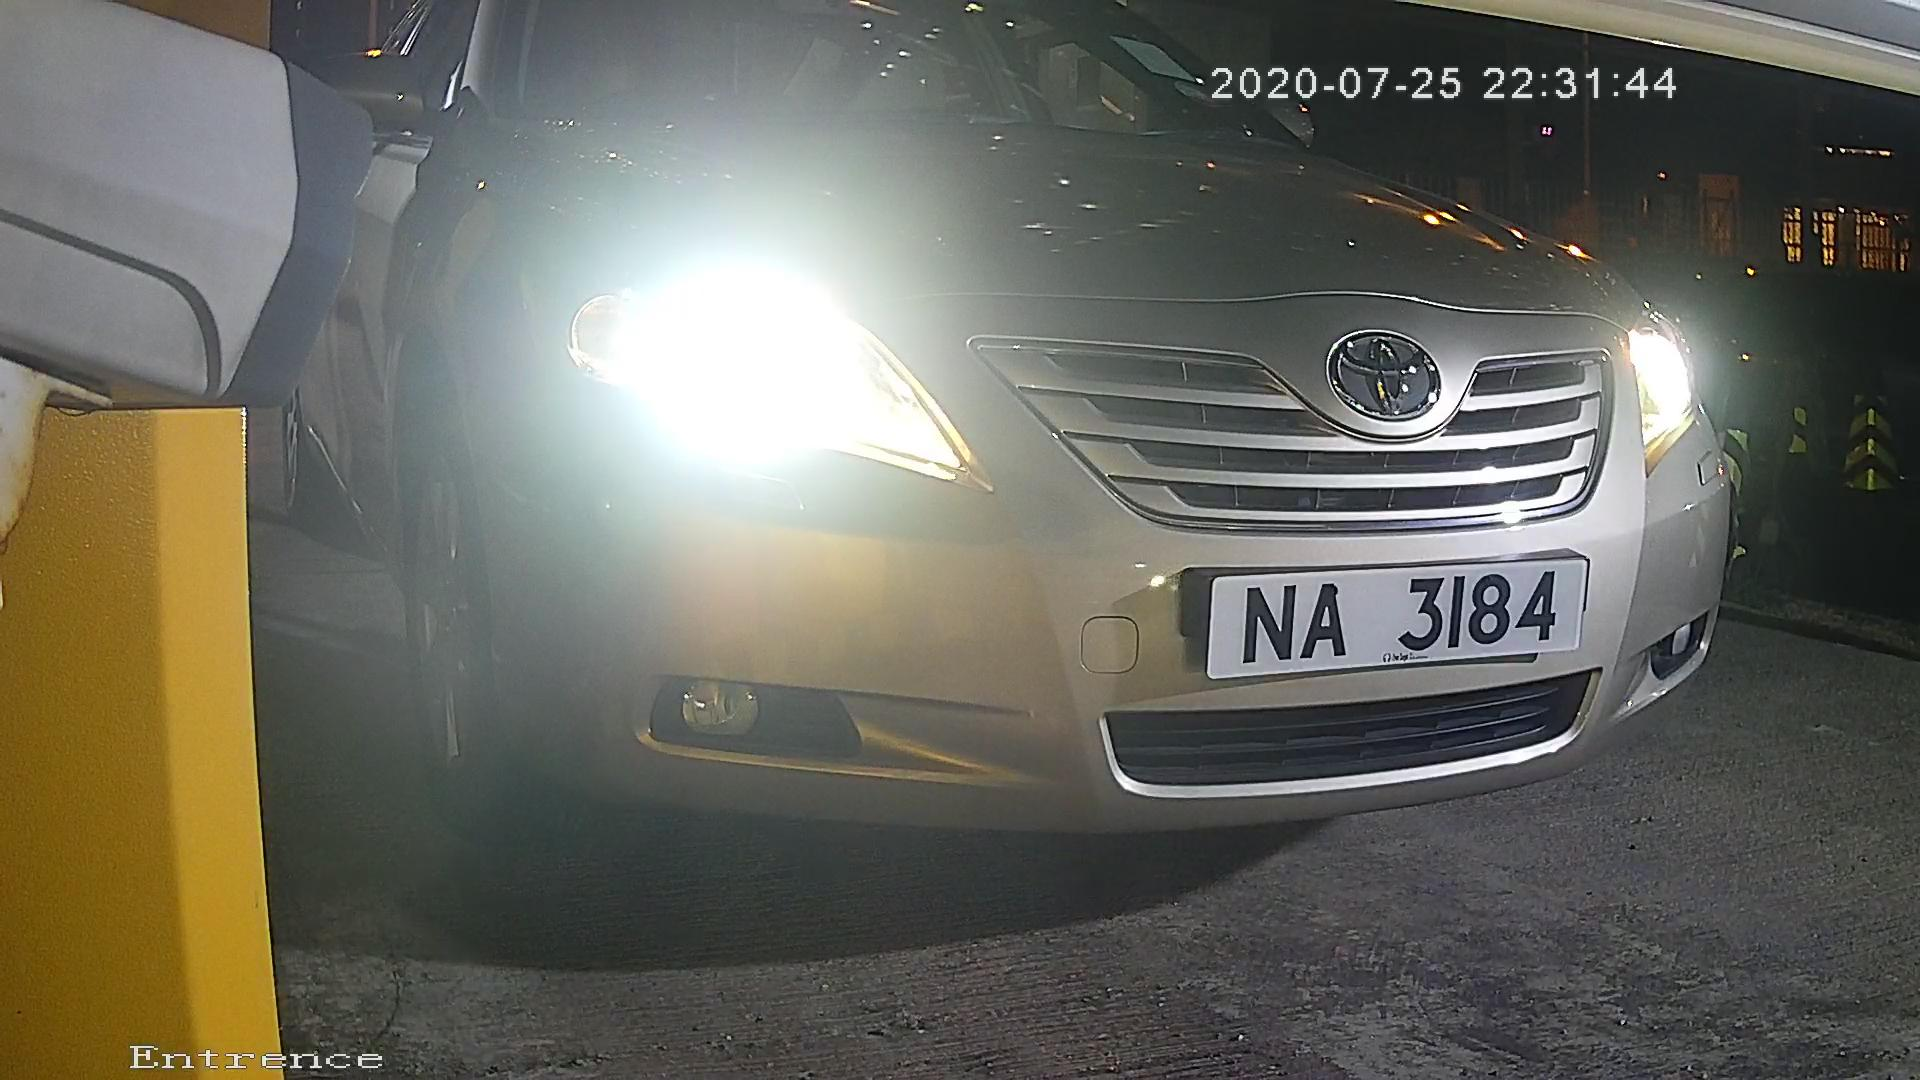Car: (103, 25, 1843, 917)
License Plate: (1175, 531, 1595, 704)
